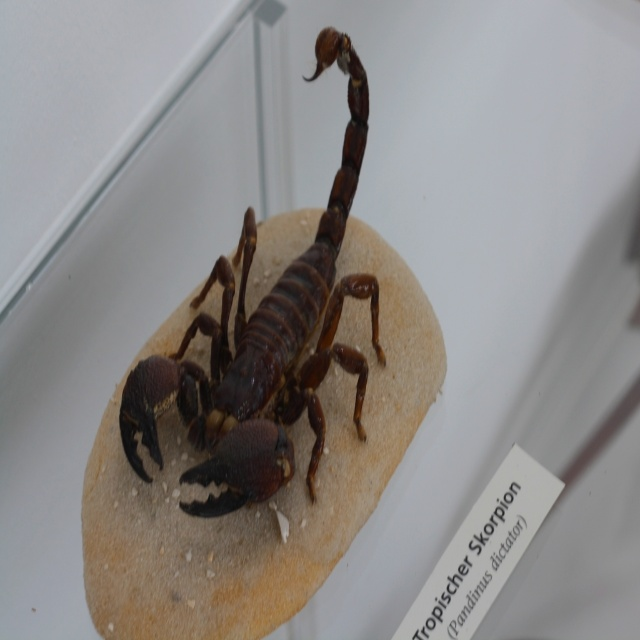Scorpion: (119, 27, 386, 518)
